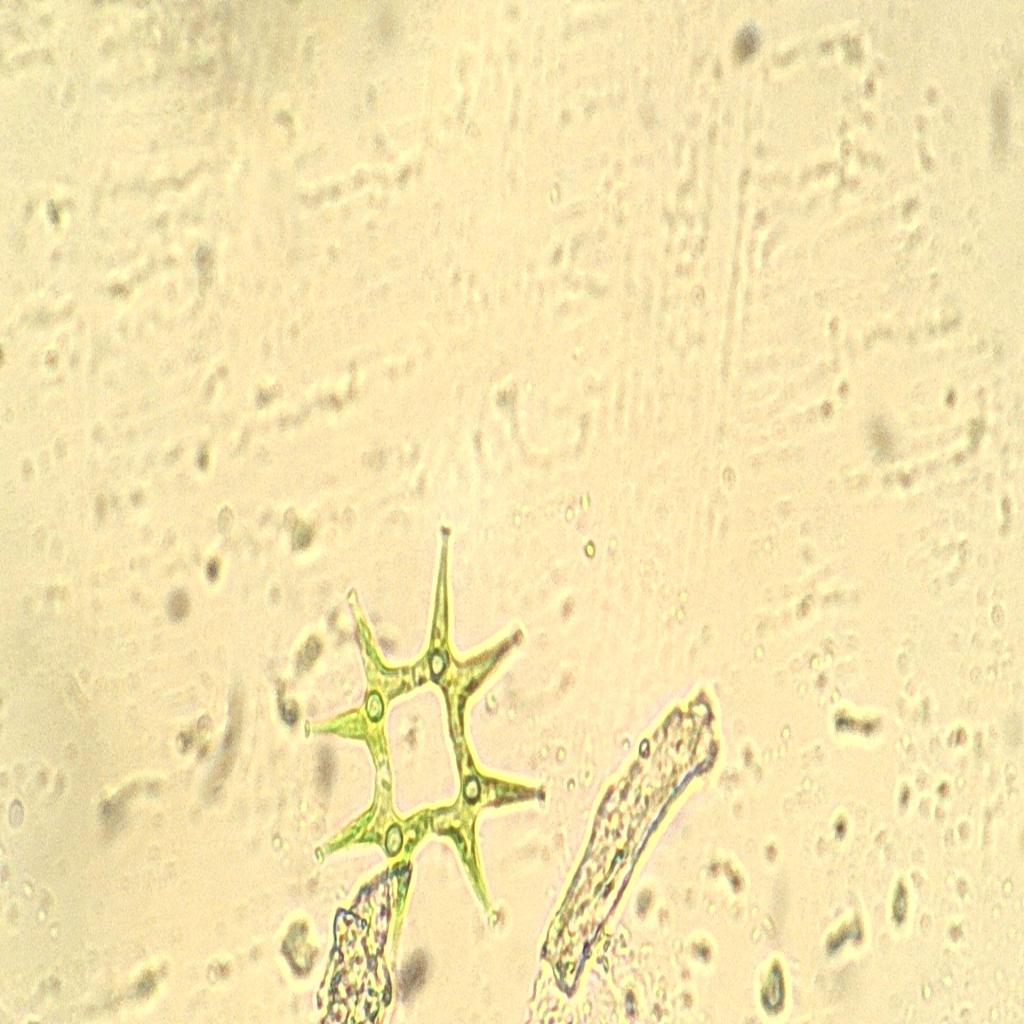Pediastrum_CO: (299, 500, 553, 978)
